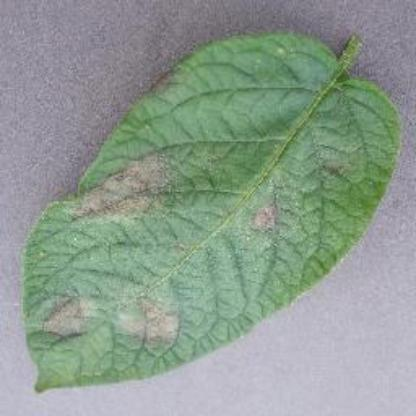Late-Blight: (6, 14, 406, 400)
